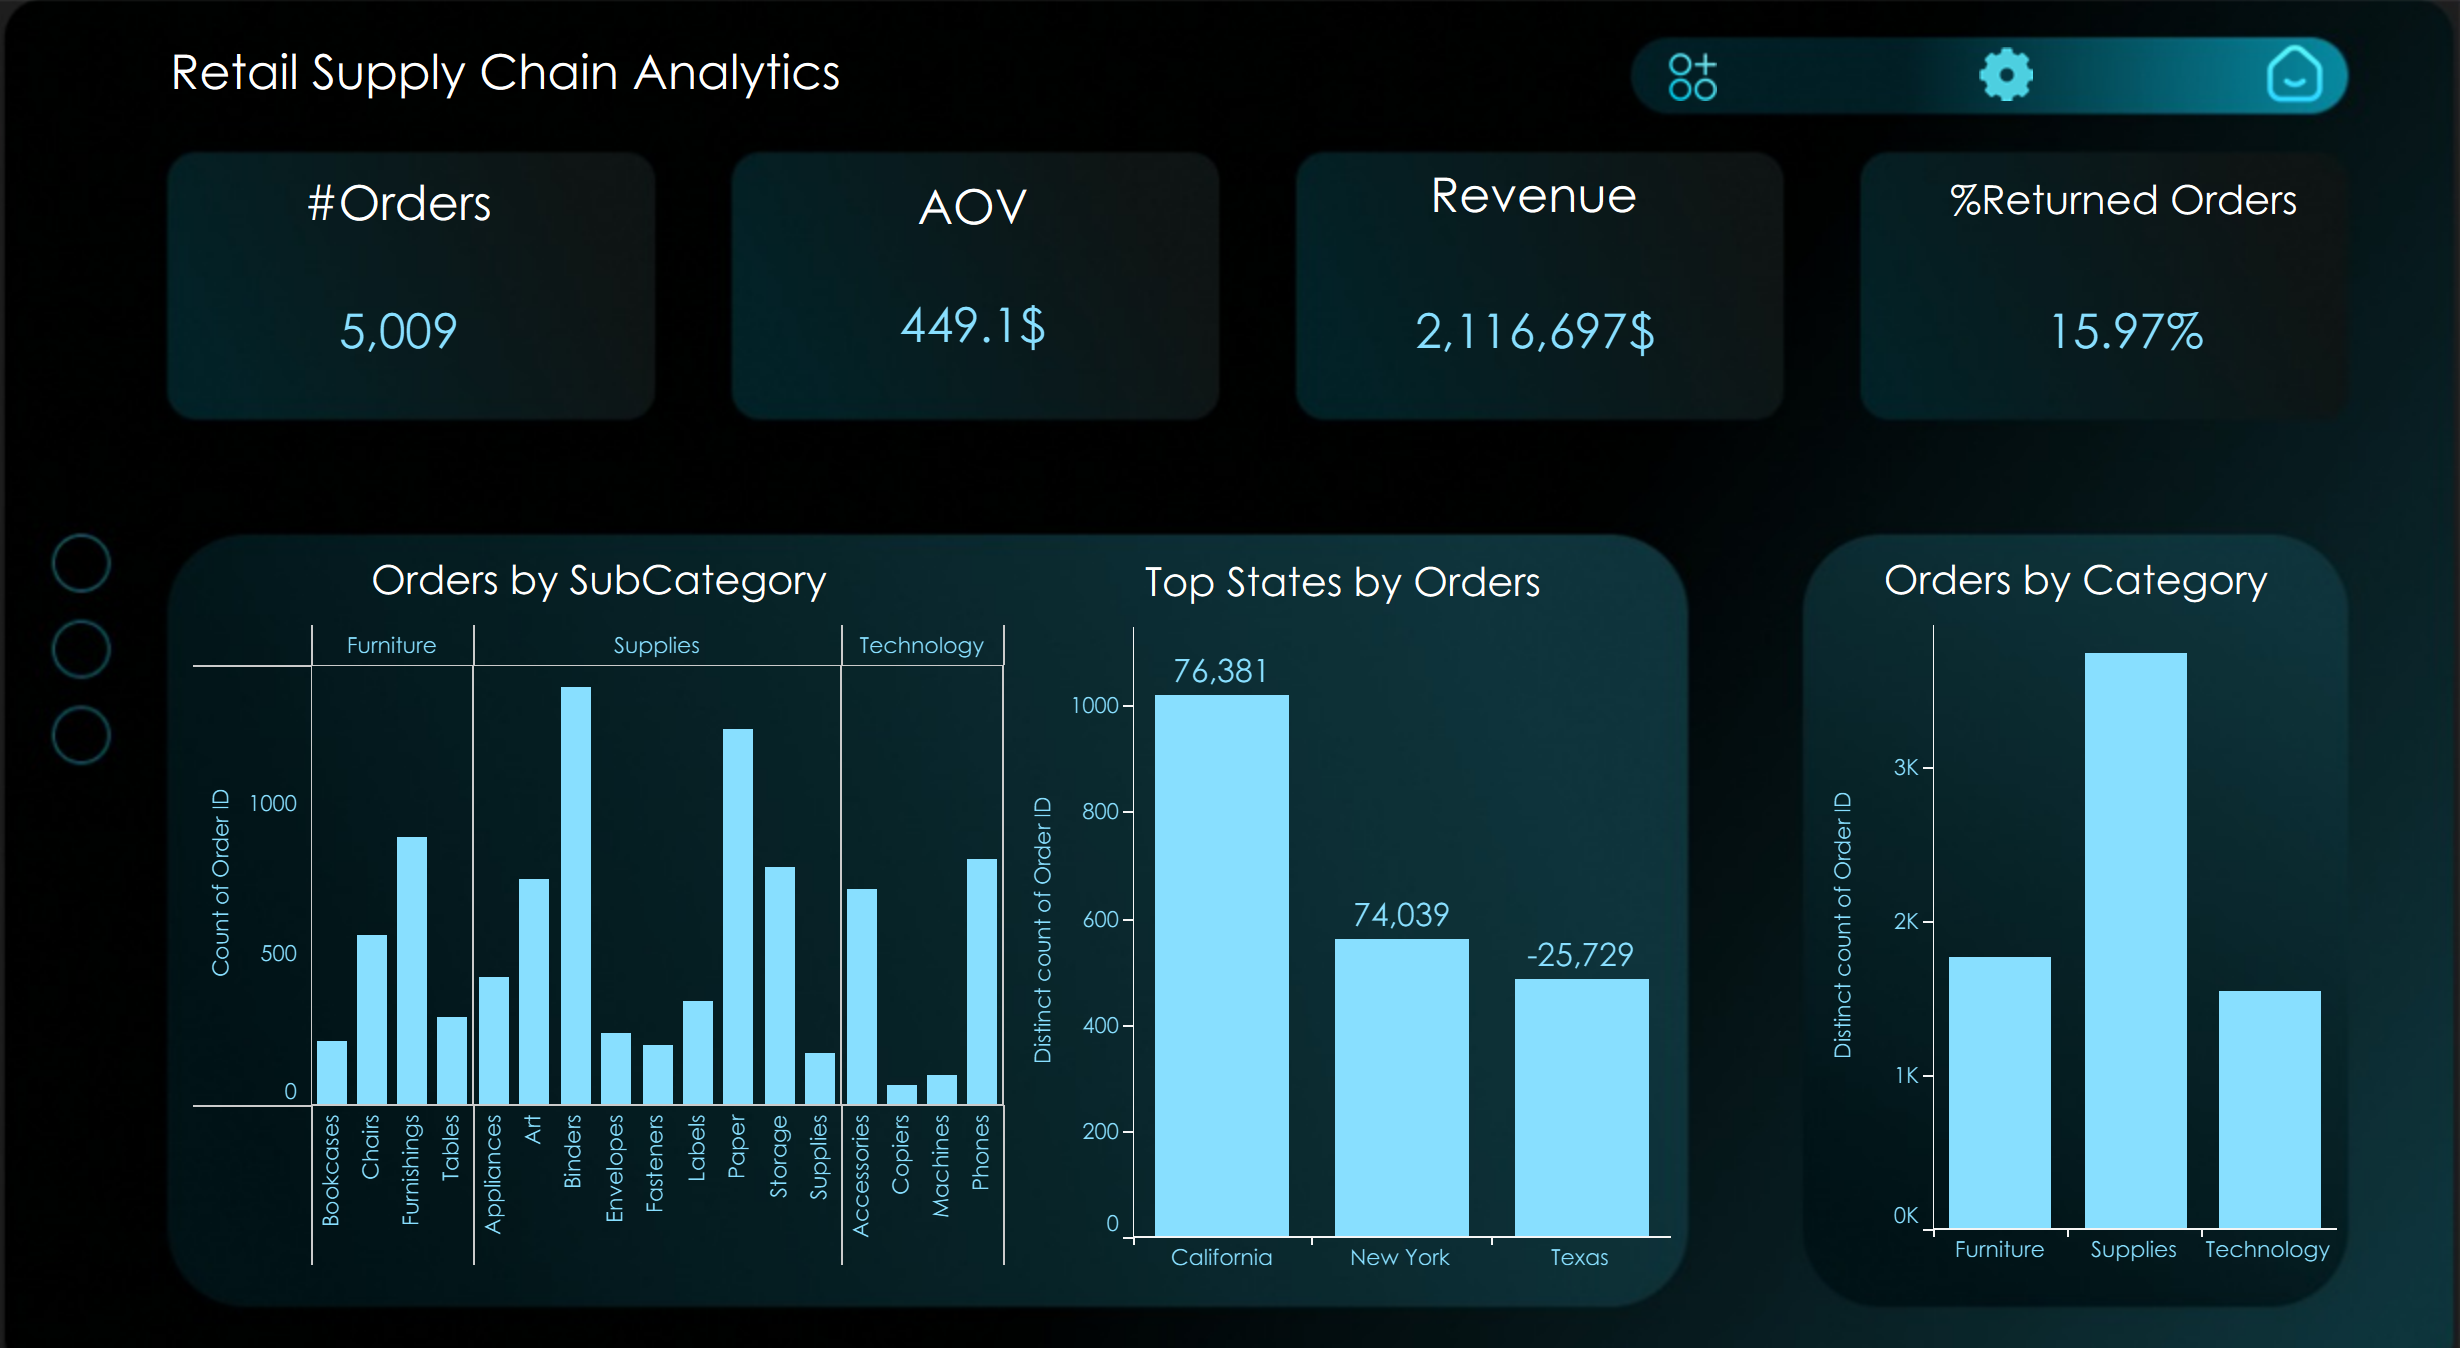

The dashboard page shown, as its layout file describes it:
{"tool":"tableau","page":{"name":"Orders Dashboard","canvas":[1280,720],"ordinal":0},"visuals":[{"type":"image","param":"Image/c62beb59-c3a0-498c-a12f-f4a8f3692667.jpg","box":[8,8,1264,704]},{"type":"image","param":"Image/home_18976962.png","box":[1144,32,33,34]},{"type":"text","box":[96,33,359,30]},{"type":"image","param":"Image/settings_759614.png","box":[1003,36,27,30]},{"type":"image","param":"Image/application_5718124.png","box":[847,38,26,25]},{"type":"worksheet","title":"Revenue","mark":"Automatic","box":[676,91,209,130]},{"type":"worksheet","title":"#Orders","mark":"Automatic","box":[108,95,209,121]},{"type":"worksheet","title":"%Returned Orders","mark":"Automatic","box":[955,96,241,125]},{"type":"worksheet","title":"AOV","mark":"Automatic","box":[402,97,196,112]},{"type":"worksheet","title":"Orders by SubCategory","mark":"Automatic","rows":["Order ID"],"cols":["Category","Sub-Category"],"box":[110,286,406,360]},{"type":"worksheet","title":"Orders by Category","mark":"Automatic","rows":["Order ID"],"cols":["Category"],"box":[921,286,261,361]},{"type":"worksheet","title":"Top States by Orders","mark":"Automatic","rows":["Order ID"],"cols":["State"],"box":[521,287,328,364]}]}

Visuals, with their boxes in screenshot pixels (x1, y1, x2, y2), scaled from the page's 1280x720 canvas onto the 2460x1348 screenshot:
image: 15:15:2445:1333
image: 2199:60:2262:124
text: 184:62:874:118
image: 1928:67:1980:124
image: 1628:71:1678:118
"Revenue" worksheet: 1299:170:1701:414
"#Orders" worksheet: 208:178:609:404
"%Returned Orders" worksheet: 1835:180:2299:414
"AOV" worksheet: 773:182:1149:391
"Orders by SubCategory" worksheet: 211:535:992:1209
"Orders by Category" worksheet: 1770:535:2272:1211
"Top States by Orders" worksheet: 1001:537:1632:1219
